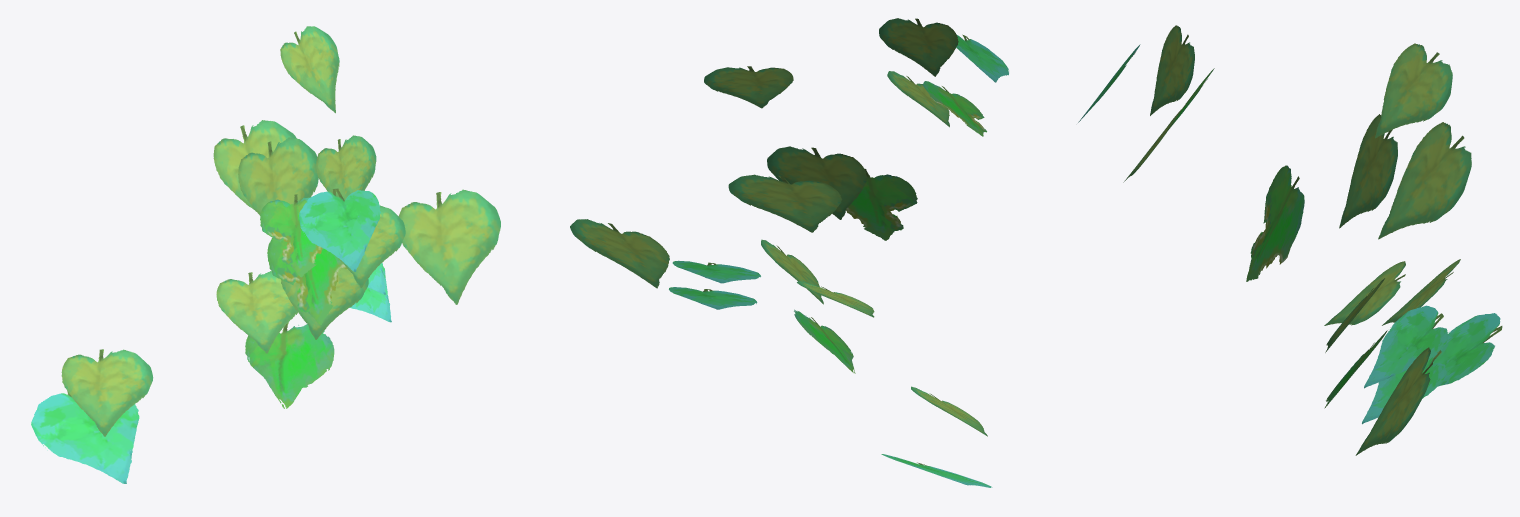
The model's file is IVY03.fbx.
The picture shows the model from 3 angles, left to right: view 1: azimuth 30°, elevation 25°; view 2: azimuth 150°, elevation 25°; view 3: azimuth 270°, elevation 25°; orthographic projection. The views are drawn at different scales.
Visible parts, largest first — view 1: IvyLeaf.007; view 2: IvyLeaf.007; view 3: IvyLeaf.007.
Part boxes in pixels (x1,y1,x2,y2): IvyLeaf.007: (31, 26, 500, 483); IvyLeaf.007: (570, 18, 1008, 487); IvyLeaf.007: (1078, 25, 1502, 455).
Size of the model in its own units: 730 by 602 by 524.
